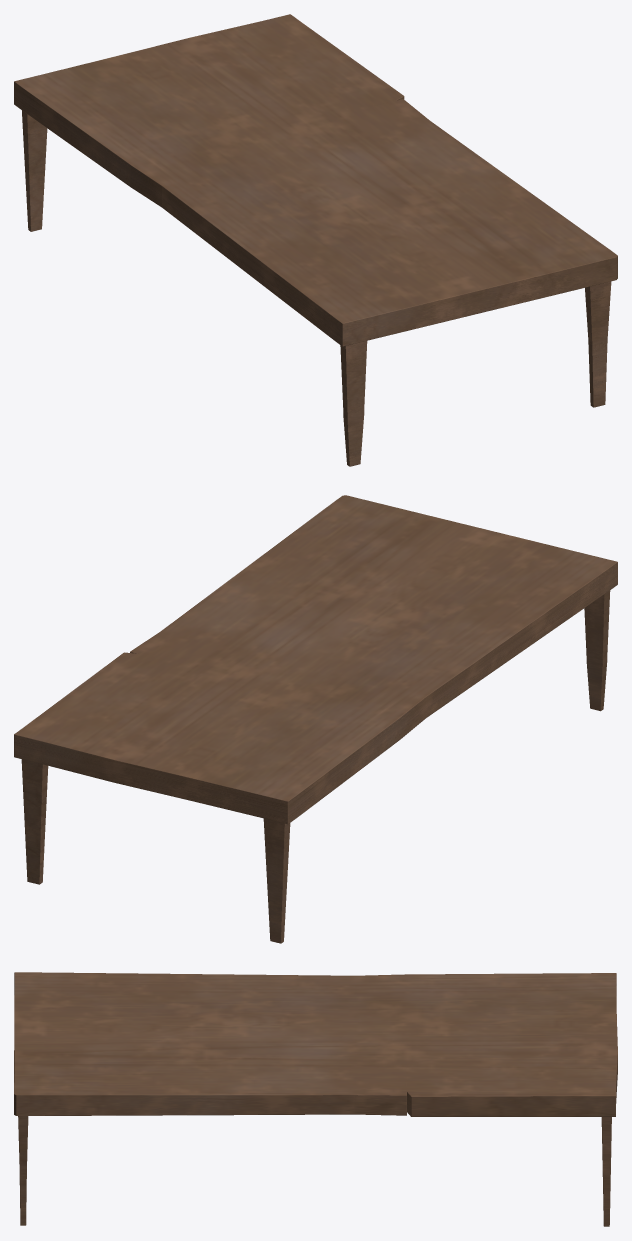
File: tables_001.fbx
The picture shows the model from 3 angles, top to bottom: view 1: azimuth 30°, elevation 25°; view 2: azimuth 150°, elevation 25°; view 3: azimuth 270°, elevation 25°; orthographic projection. The views are drawn at different scales.
Parts seen in each view (by area): view 1: tables.001; view 2: tables.001; view 3: tables.001.
Boxes of the visible parts, x1,y1,x2,y2 form: tables.001: [14, 14, 617, 466]; tables.001: [14, 495, 617, 943]; tables.001: [14, 972, 617, 1226].
Size of the model in its own units: 166 by 84.33 by 341.
